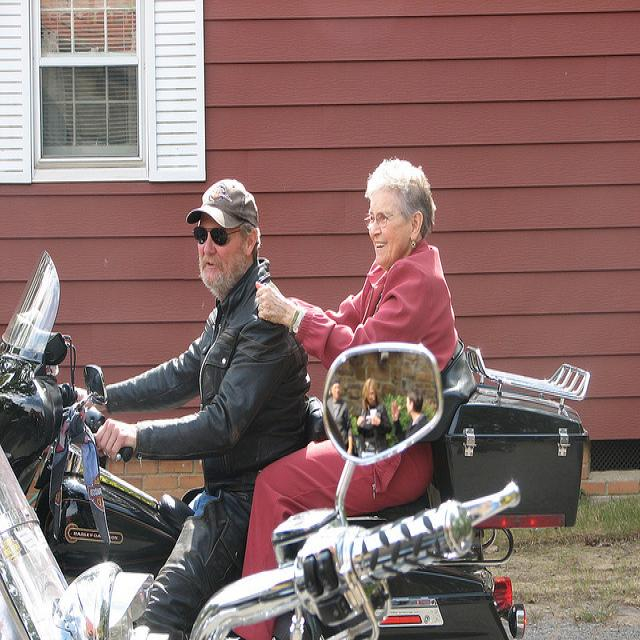motor: (0, 254, 594, 572), (72, 486, 509, 640)
